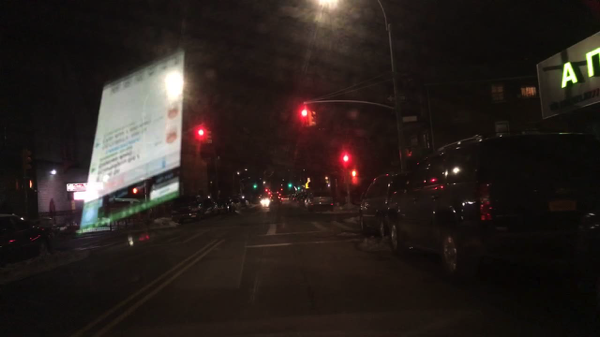car: (381, 131, 599, 282), (357, 169, 412, 239), (1, 213, 53, 265), (169, 193, 205, 226), (201, 198, 220, 218), (215, 199, 230, 213), (269, 192, 282, 206), (223, 197, 235, 209), (302, 193, 310, 207), (233, 197, 242, 209), (261, 197, 270, 206), (252, 196, 262, 204), (296, 194, 305, 202), (242, 199, 251, 207), (292, 194, 298, 200), (282, 195, 289, 200)
traffic light: (23, 148, 32, 171), (196, 126, 206, 145), (301, 105, 308, 128), (13, 176, 23, 191), (130, 186, 146, 195), (341, 152, 350, 165), (310, 109, 316, 126), (349, 170, 359, 180), (404, 147, 413, 158), (206, 129, 212, 145), (26, 179, 34, 191), (286, 182, 292, 189), (253, 184, 258, 190)
traffic sign: (383, 93, 407, 103), (401, 117, 418, 123)
truck: (310, 191, 333, 212)
